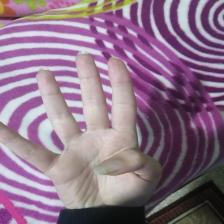four: (0, 53, 165, 213)
